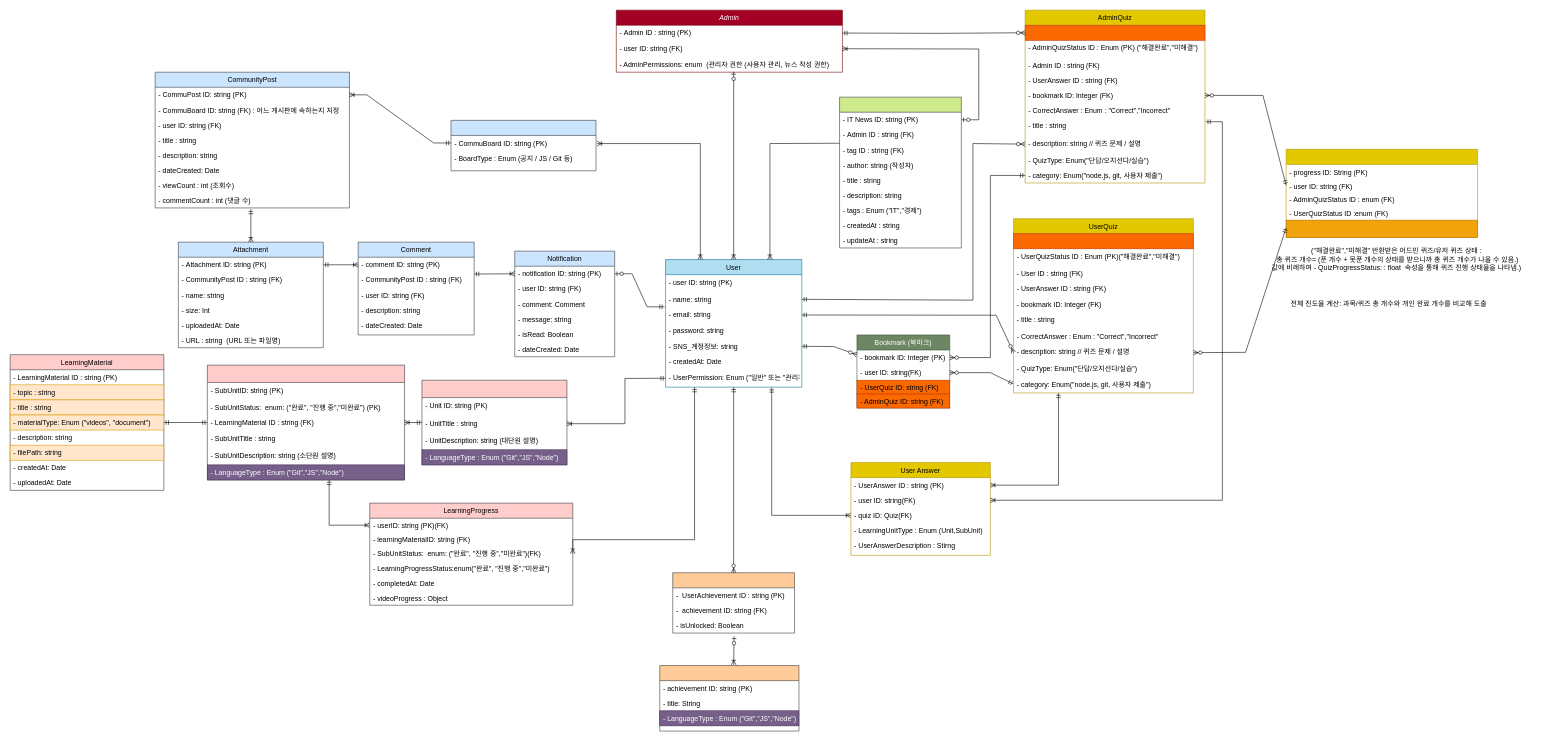
This 1543x741 diagram has some shape labels left out. The box of each missing label's shape, as (x1, y1, x2, y2) in pixels:
- AdminQuiz ID: string (PK): (1025, 25, 1205, 40)
- QuizProgressStatus: : float: (1286, 220, 1478, 238)
- UserQuiz ID: string (PK): (1013, 233, 1193, 249)
Achievement (업적): (659, 665, 799, 731)
CommunityBoard: (450, 120, 596, 171)
IT News (Naver): (839, 97, 961, 248)
LearningSubUnit: (207, 365, 405, 480)
LearningUnit: (421, 380, 567, 465)
QuizProgress (퀴즈 진행 상태): (1286, 149, 1478, 238)
User Achievement (사용자 업적): (672, 572, 795, 633)
